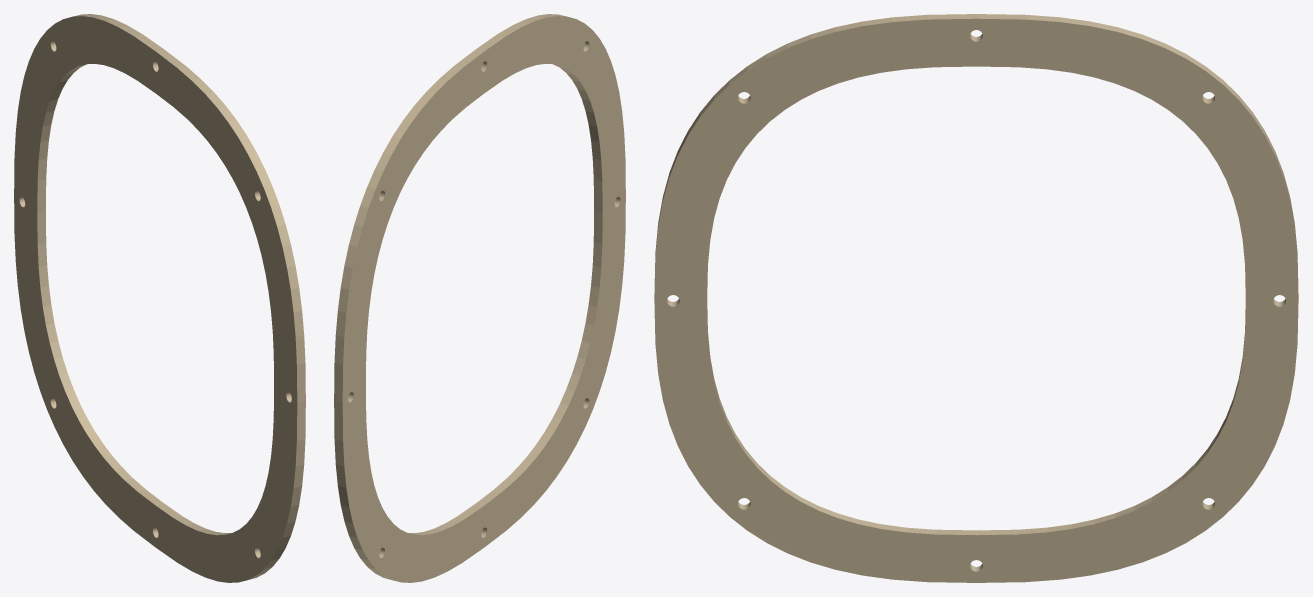
The picture shows the model from 3 angles, left to right: view 1: azimuth 30°, elevation 25°; view 2: azimuth 150°, elevation 25°; view 3: azimuth 270°, elevation 25°; orthographic projection. The views are drawn at different scales.
Parts seen in each view (by area): view 1: geometry_0; view 2: geometry_0; view 3: geometry_0.
Part boxes in pixels (x1=…): geometry_0: x1=14, y1=14, x2=305, y2=582; geometry_0: x1=334, y1=14, x2=625, y2=582; geometry_0: x1=654, y1=14, x2=1298, y2=582.
Size of the model in its own units: 3 by 165 by 171.
